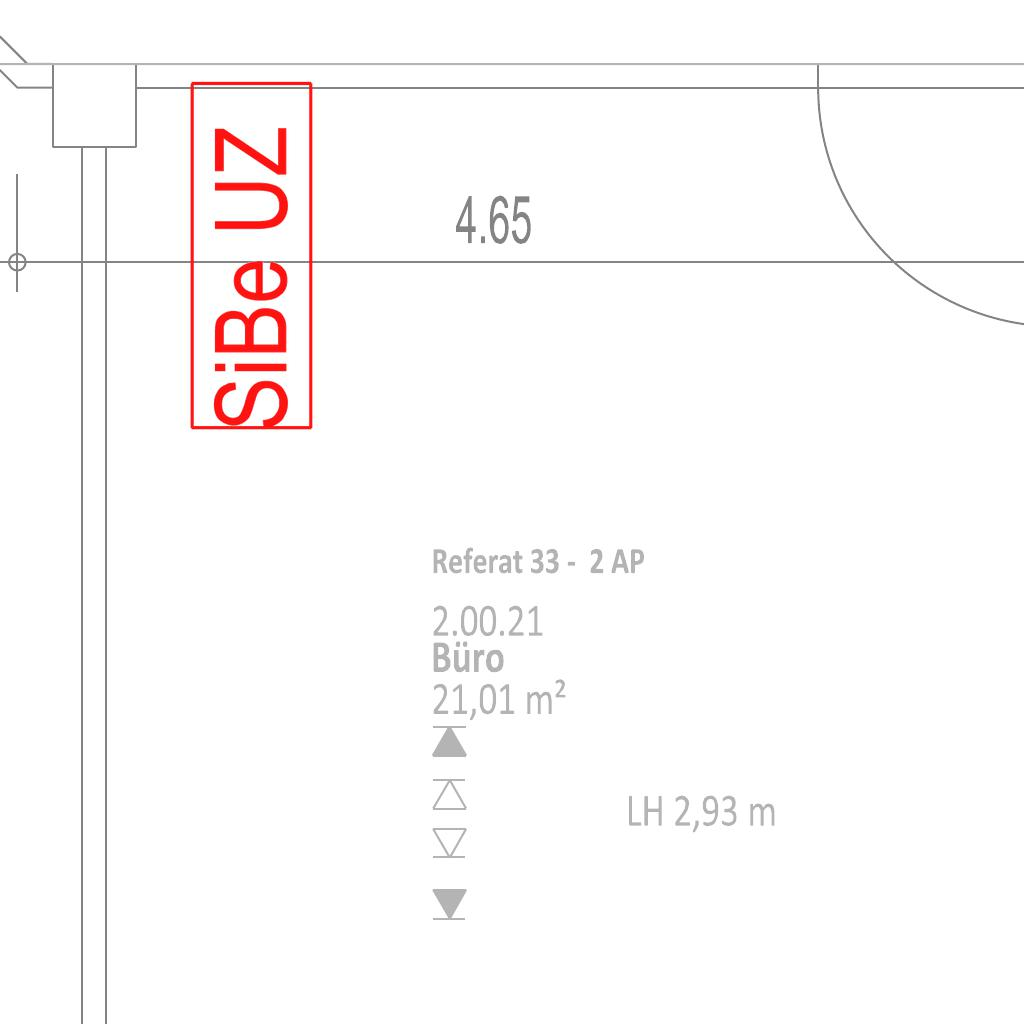Zentrale_Sicherheitsbeleuchtung: (187, 76, 317, 433)
